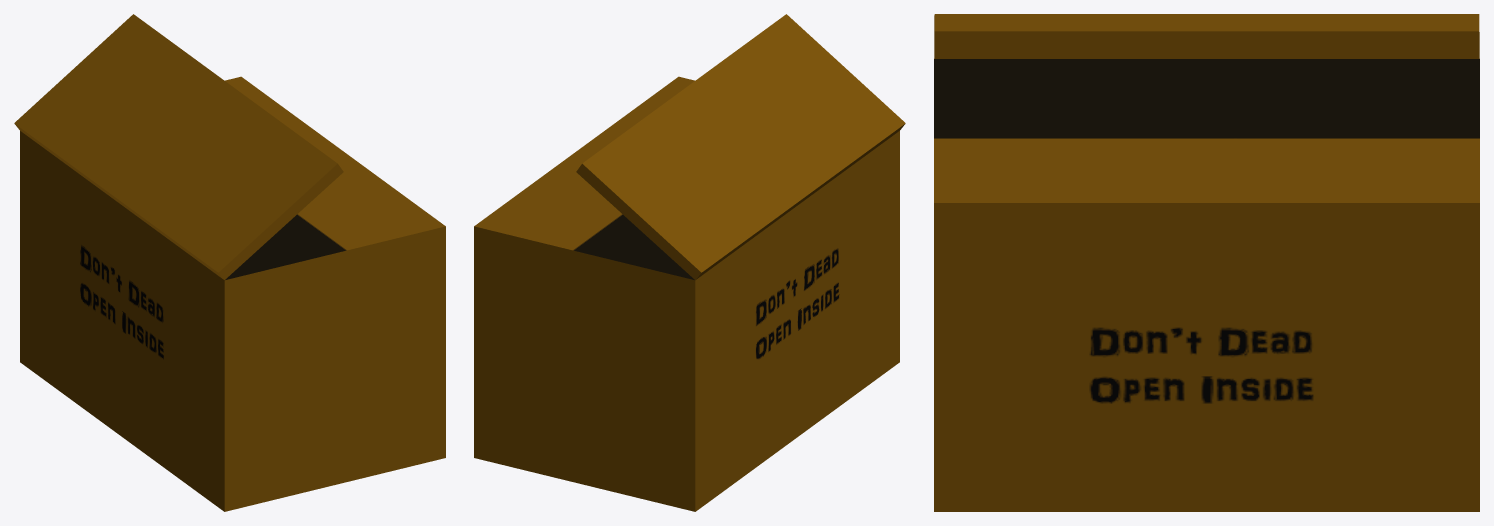
The model's file is CardboardBox.fbx.
3 renders of one model, left to right at view 1: azimuth 30°, elevation 25°; view 2: azimuth 150°, elevation 25°; view 3: azimuth 270°, elevation 25°, orthographic. The views are drawn at different scales.
Visible parts, largest first — view 1: pCube3; view 2: pCube3; view 3: pCube3.
Boxes of the visible parts, <box> form: pCube3: <box>14,14,445,511</box>; pCube3: <box>474,14,905,511</box>; pCube3: <box>934,14,1479,511</box>.
Bounding box in the file's own units: 6.25 × 8.42 × 9.73.
